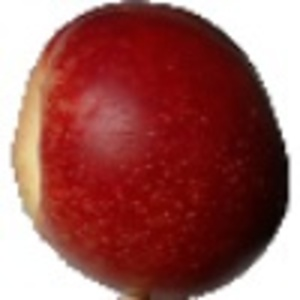nectarina: (9, 1, 289, 300)
